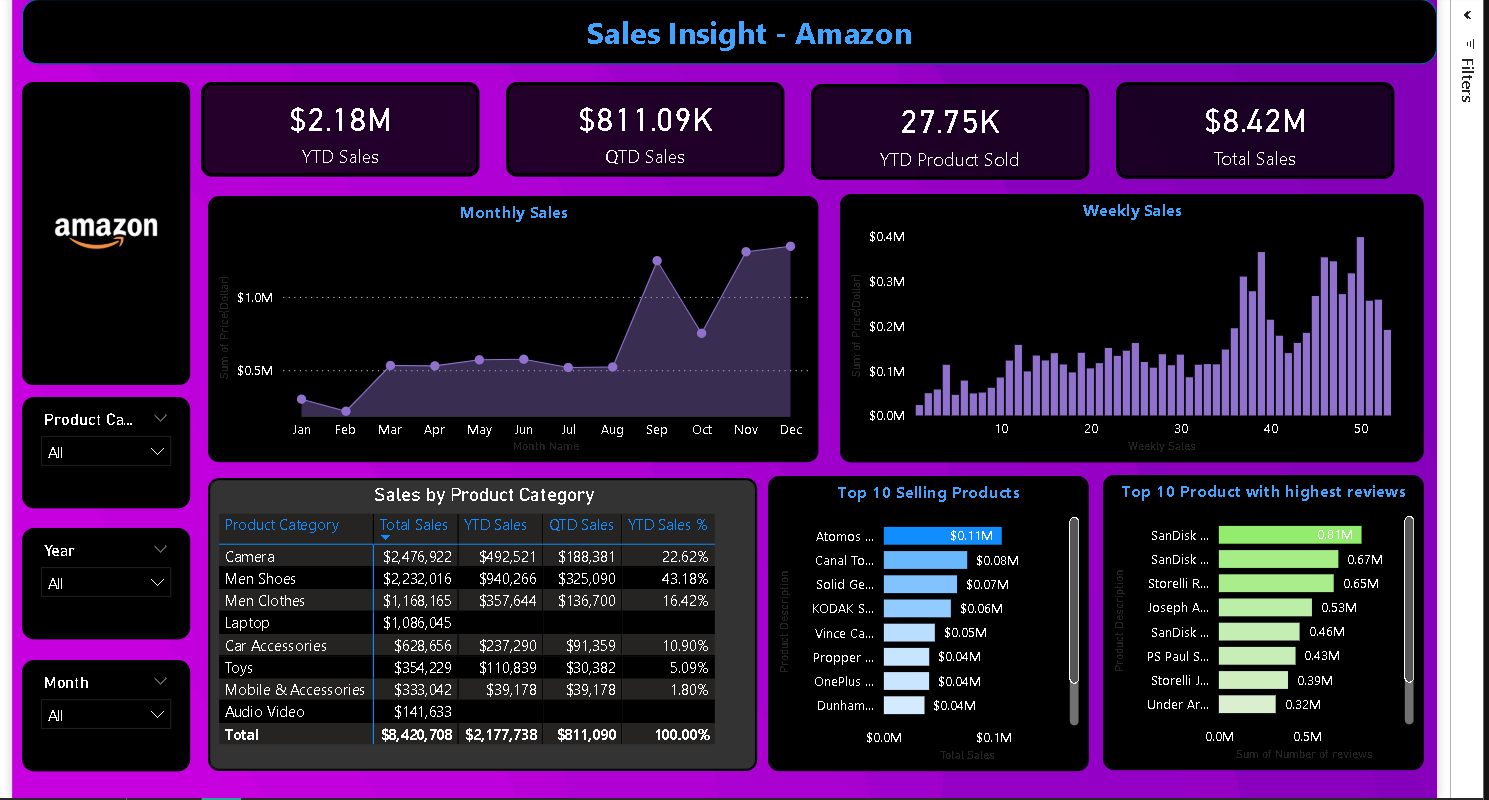

The page's visual inventory and layout, read from the dashboard file:
{"tool":"powerbi","page":{"name":"Page 1","canvas":[1280,720],"ordinal":0},"visuals":[{"type":"card","fields":{"Values":["Amazon_Data.YTD Sales"]},"box":[170.1,76.8,249.9,85],"z":0,"group":"g1"},{"type":"shape","box":[9,2.6,1270.4,58.7],"z":0},{"type":"card","fields":{"Values":["Amazon_Data.QTD Sales"]},"box":[444.1,76.8,249.9,85],"z":1000,"group":"g1"},{"type":"textbox","box":[443.2,8.1,437.3,47.7],"z":1000},{"type":"card","fields":{"Values":["Amazon_Data.YTD Product Sold"]},"box":[718,78.3,249.9,85.8],"z":2000,"group":"g1"},{"type":"group","id":"g1","title":"Group 1","box":[170.1,76.8,1071.7,87.3],"z":2000},{"type":"card","fields":{"Values":["Amazon_Data.Total Sales"]},"box":[992,76.8,249.9,87.3],"z":3000,"group":"g1"},{"type":"lineChart","title":"Monthly Sales","fields":{"Y":["Amazon_Data.Price(Dollar)"],"Category":["Date Table.Month Name"]},"box":[176,179.1,547.9,239.3],"z":3000},{"type":"columnChart","title":"Weekly Sales","fields":{"Y":["Amazon_Data.Price(Dollar)"],"Category":["Date Table.Weeks"]},"box":[743,177.6,523.8,240.8],"z":4000},{"type":"pivotTable","title":"Sales by Product Category","fields":{"Rows":["Amazon_Data.Product Category"],"Values":["Amazon_Data.Total Sales","Amazon_Data.YTD Sales","Amazon_Data.QTD Sales","Amazon_Data.YTD Sales %"]},"box":[175.5,432.7,492.7,263.3],"z":5000},{"type":"clusteredBarChart","title":"Top 10 Selling Products","fields":{"Category":["Amazon_Data.Product Description"],"Y":["Amazon_Data.Total Sales"]},"box":[679,431.1,287.9,264.8],"z":6000},{"type":"clusteredBarChart","title":"Top 10 Product with highest reviews","fields":{"Category":["Amazon_Data.Product Description"],"Y":["Amazon_Data.Number of  reviews"]},"box":[979.3,429.6,287.9,264.8],"z":7000},{"type":"slicer","fields":{"Values":["Amazon_Data.Product Category"]},"box":[9,359.8,150.5,100],"z":8000},{"type":"slicer","fields":{"Values":["Date Table.Month Name"]},"box":[9,596.1,150.5,100],"z":9000},{"type":"image","box":[9,76.8,150.5,272.4],"z":10000},{"type":"slicer","fields":{"Values":["Date Table.Date.Variation.Date Hierarchy.Year"]},"box":[9,477.9,150.5,100],"z":11000}]}

Visuals, with their boxes on the page's 1280x720 design canvas (x1, y1, x2, y2). These are canvas units, not pixel positions in the 1489x800 screenshot, which may show the page scaled, cropped or inside an application window:
card - Amazon_Data.YTD Sales: [170,77,420,162]
shape: [9,3,1279,61]
card - Amazon_Data.QTD Sales: [444,77,694,162]
textbox: [443,8,880,56]
card - Amazon_Data.YTD Product Sold: [718,78,968,164]
"Group 1" group: [170,77,1242,164]
card - Amazon_Data.Total Sales: [992,77,1242,164]
"Monthly Sales" lineChart: [176,179,724,418]
"Weekly Sales" columnChart: [743,178,1267,418]
"Sales by Product Category" pivotTable: [176,433,668,696]
"Top 10 Selling Products" clusteredBarChart: [679,431,967,696]
"Top 10 Product with highest reviews" clusteredBarChart: [979,430,1267,694]
slicer - Amazon_Data.Product Category: [9,360,160,460]
slicer - Date Table.Month Name: [9,596,160,696]
image: [9,77,160,349]
slicer - Date Table.Date.Variation.Date Hierarchy.Year: [9,478,160,578]
